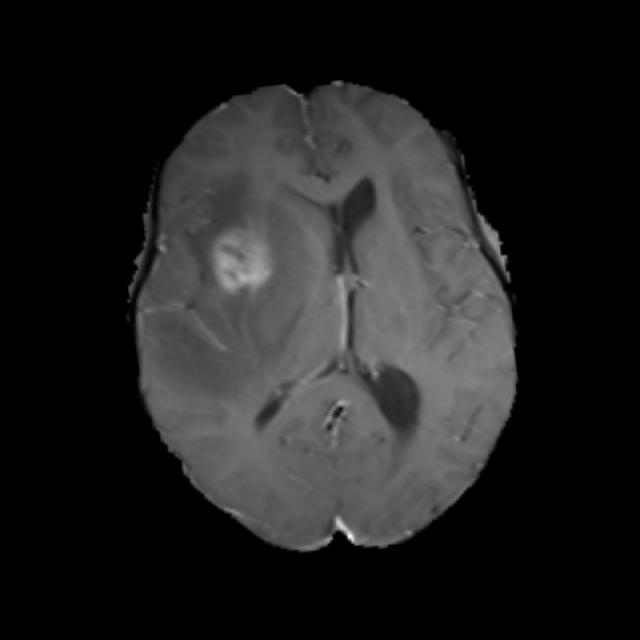negative: (210, 229, 273, 291)
